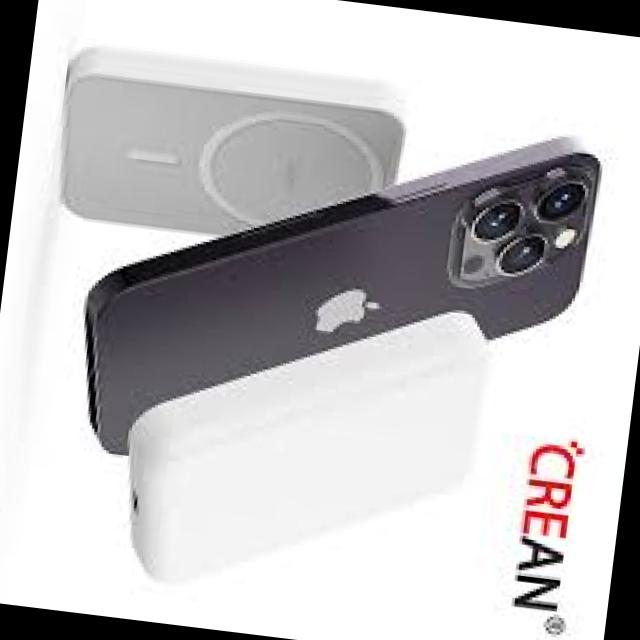portable-charger: (112, 271, 496, 619), (45, 39, 417, 265)
